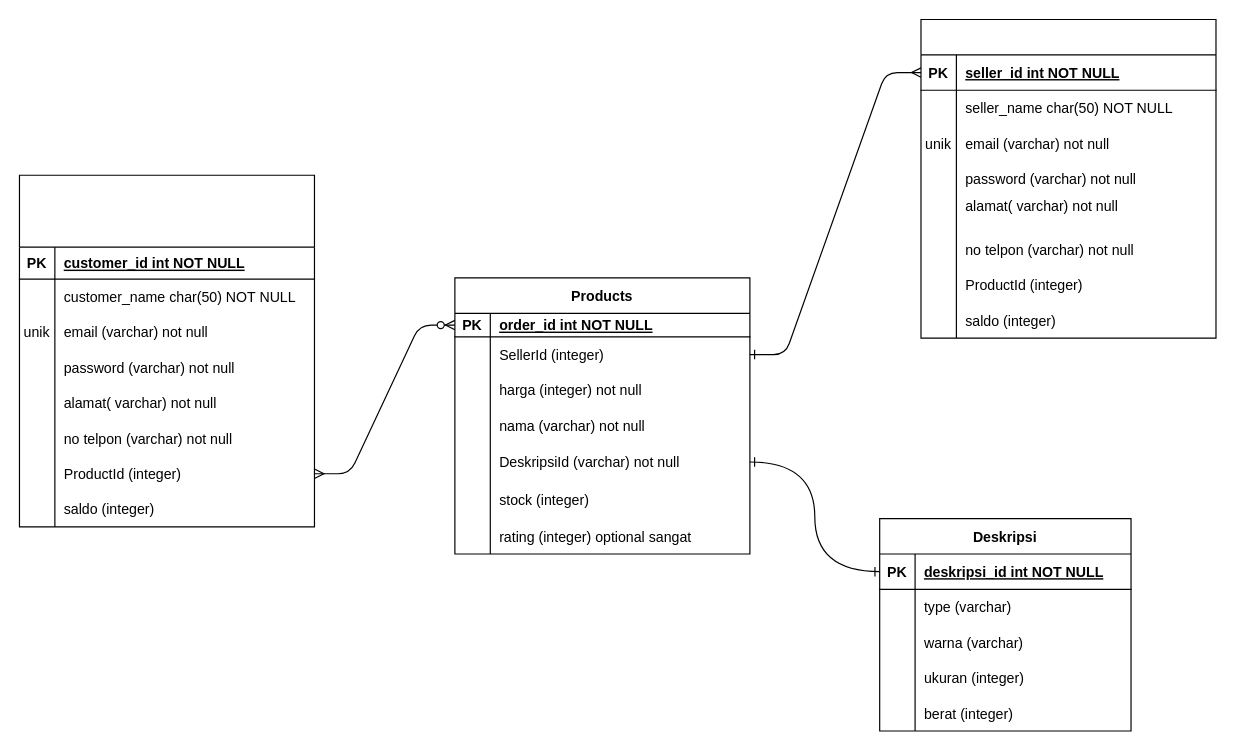
Some shapes in this 1235 by 750 pixel diagram are drawn without their labels. The box of each missing label's shape, as (x1, y1, x2, y2) in pixels:
Customers: (18, 174, 314, 527)
Sellers: (920, 18, 1216, 338)
